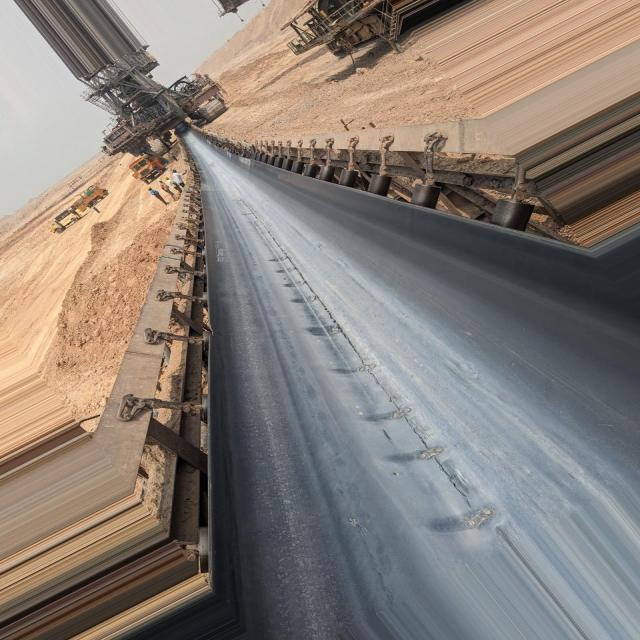Human: (147, 170, 188, 206)
Roller: (271, 150, 533, 233)
patch work: (240, 243, 520, 537)
